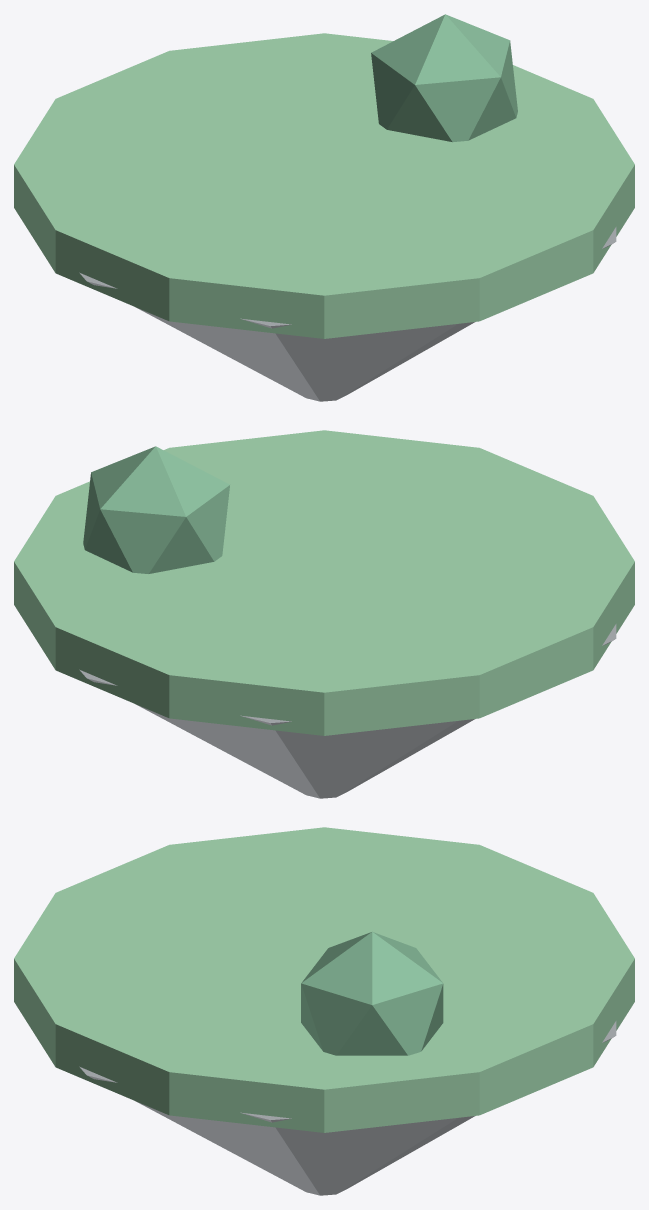
File: floating_island.glb
The picture shows the model from 3 angles, top to bottom: view 1: azimuth 30°, elevation 25°; view 2: azimuth 150°, elevation 25°; view 3: azimuth 270°, elevation 25°; orthographic projection.
Visible parts, largest first — view 1: floating_island; view 2: floating_island; view 3: floating_island.
Part boxes in pixels (left/top/right/bottom): floating_island: left=14, top=14, right=634, bottom=401; floating_island: left=14, top=430, right=634, bottom=798; floating_island: left=14, top=827, right=634, bottom=1195.
Size of the model in its own units: 5.2 by 3 by 5.2.
